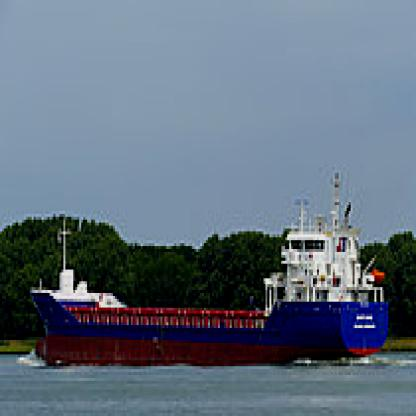Tanker: (26, 295, 392, 375)
